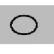no answer: (8, 14, 39, 36)
